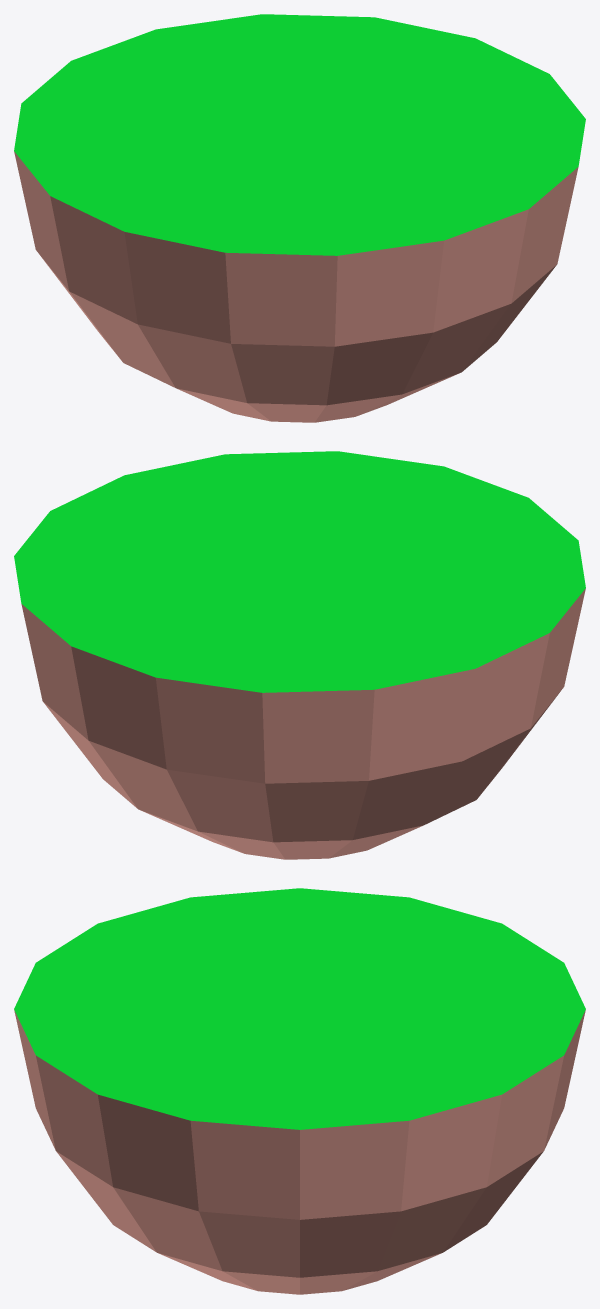
The model's file is HalfSphereIsland.fbx.
3 renders of one model, top to bottom at view 1: azimuth 30°, elevation 25°; view 2: azimuth 150°, elevation 25°; view 3: azimuth 270°, elevation 25°, orthographic.
Visible parts, largest first — view 1: HalfSphereIsland; view 2: HalfSphereIsland; view 3: HalfSphereIsland.
Part boxes in pixels (x1,y1,x2,y2): HalfSphereIsland: [14, 14, 585, 422]; HalfSphereIsland: [14, 451, 585, 859]; HalfSphereIsland: [14, 888, 585, 1294].
Bounding box in the file's own units: 40 × 20 × 40.
